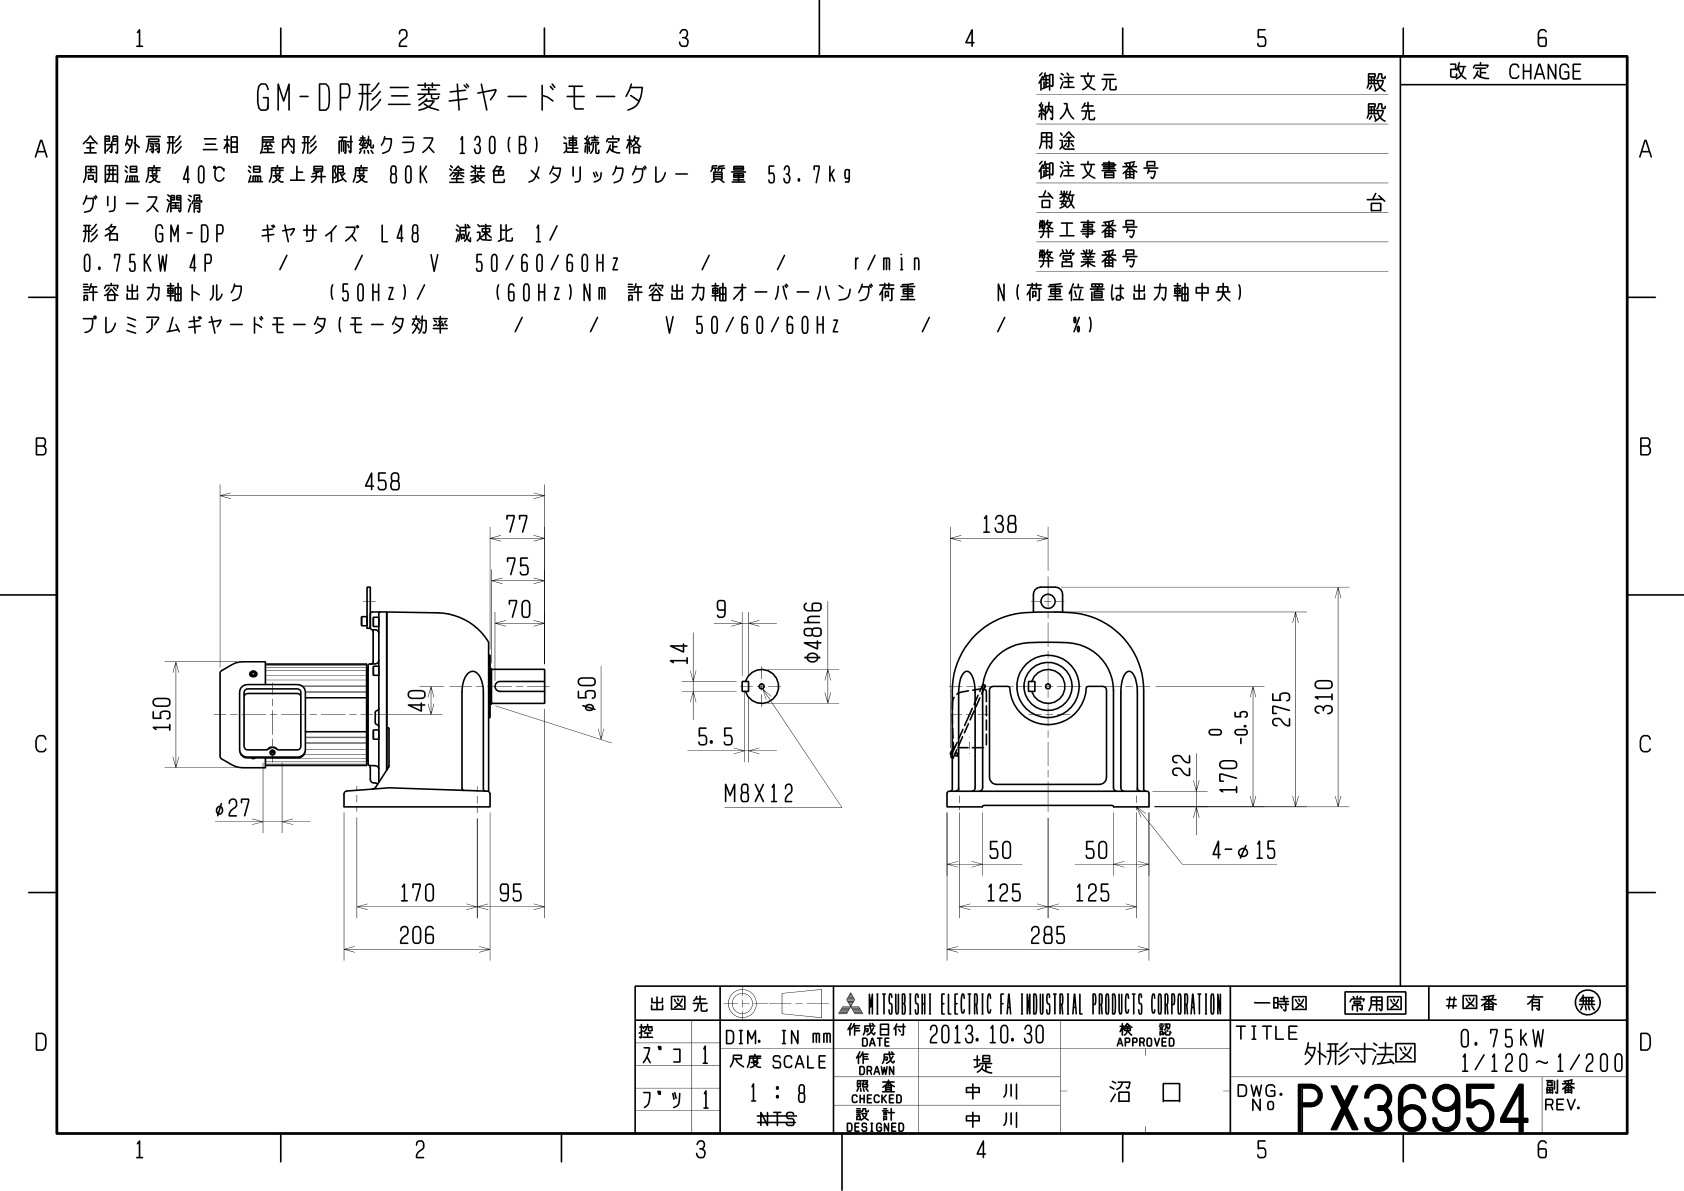GM_D_屋内＿三相_脚: (1, 21, 1672, 1173)
